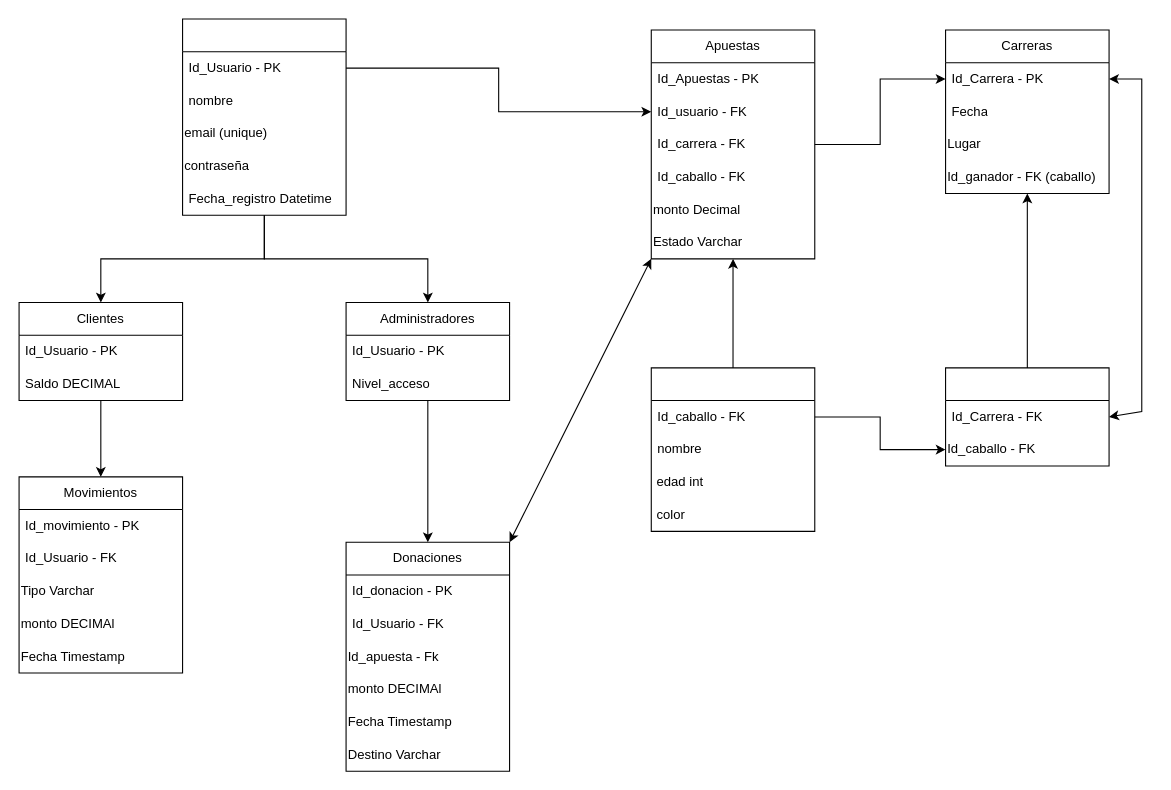
This 1171x790 diagram has some shape labels left out. The box of each missing label's shape, as (x1, y1, x2, y2) in pixels:
Caballos: (650, 367, 815, 531)
Participación: (944, 367, 1109, 466)
Usuarios: (181, 18, 346, 215)
